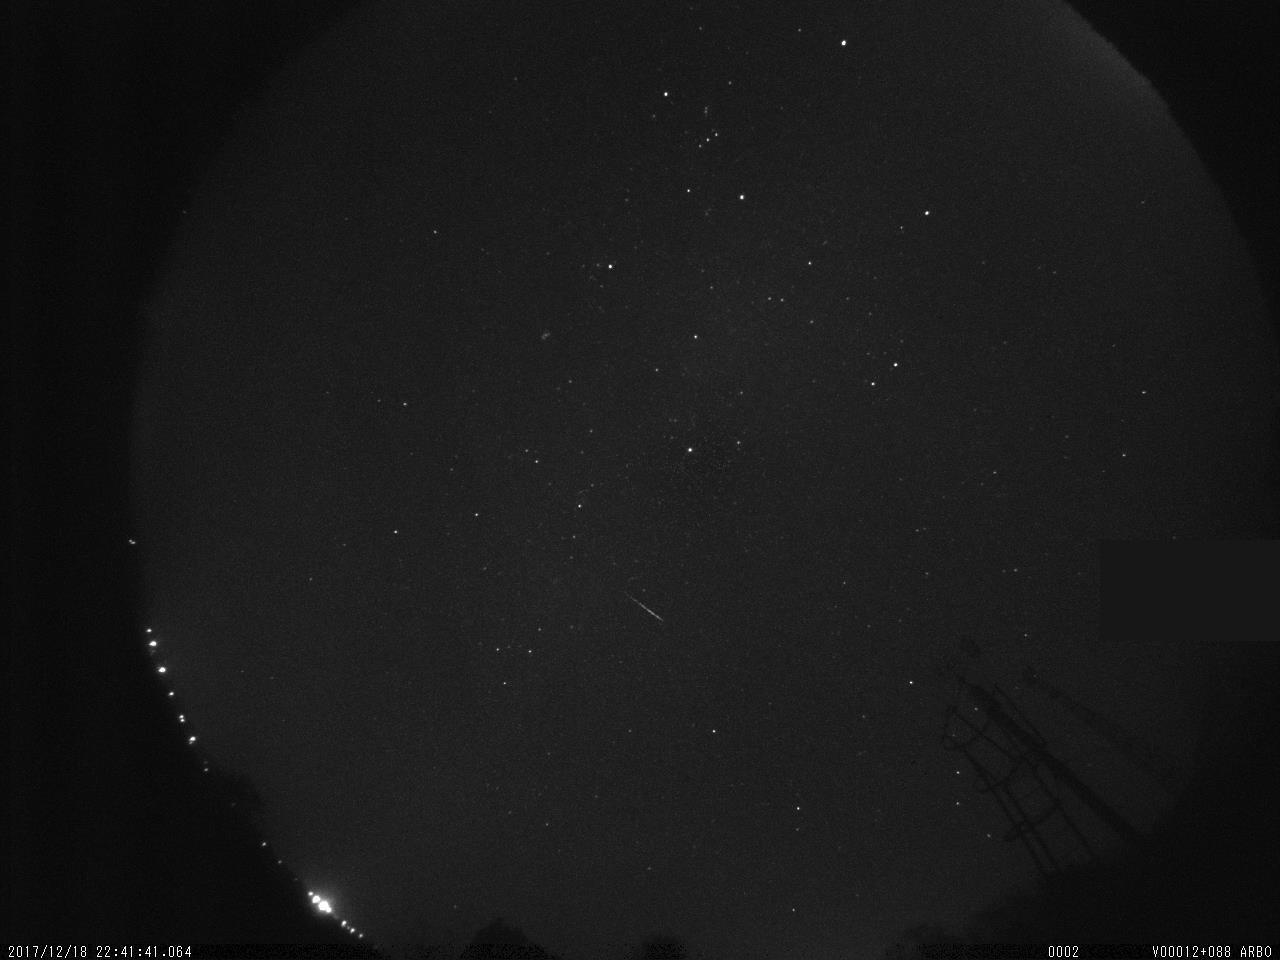meteor: (616, 578, 677, 631)
